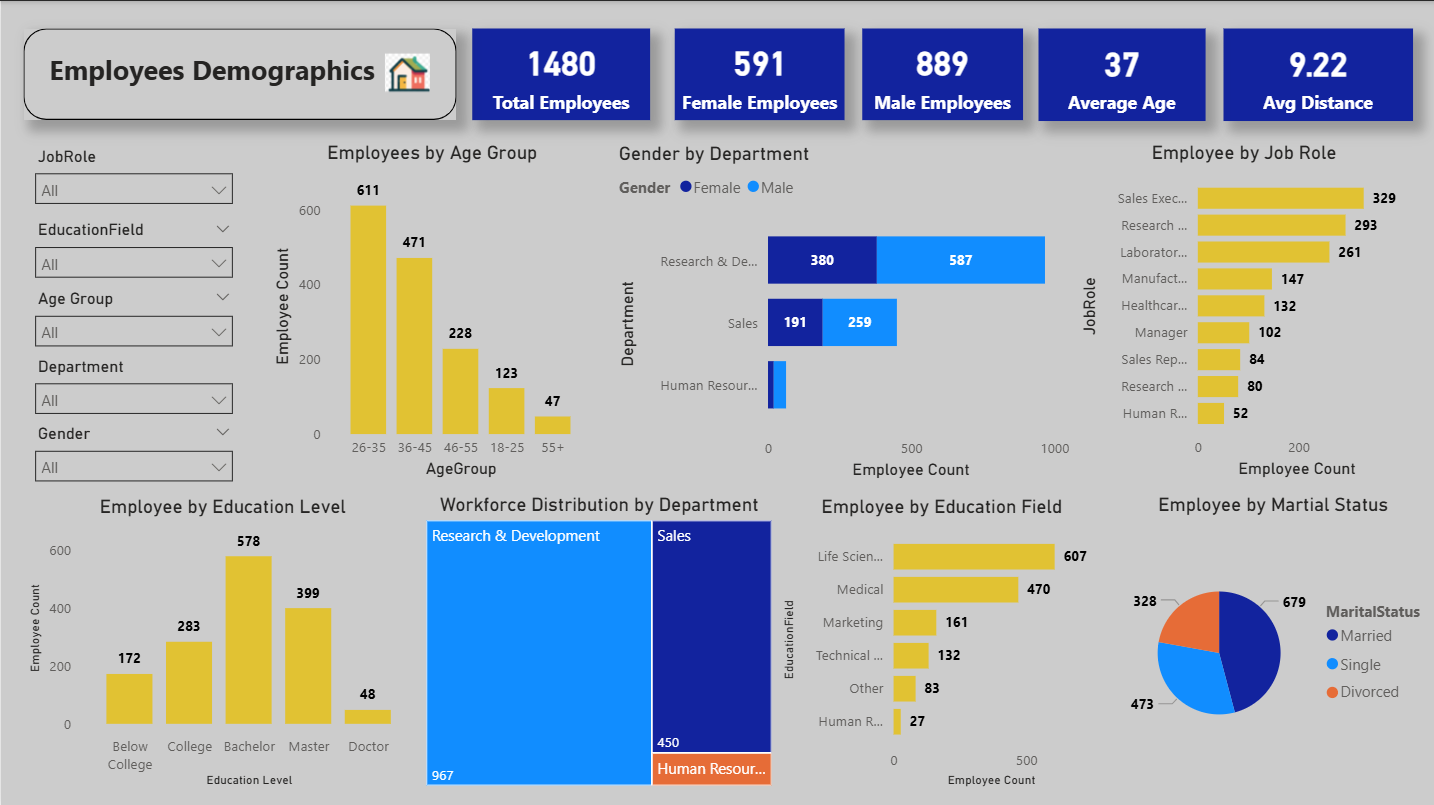

The page's visual inventory and layout, read from the dashboard file:
{"tool":"powerbi","page":{"name":"Employee Demographics","canvas":[1280,720],"ordinal":2},"visuals":[{"type":"card","fields":{"Values":["HR_Analytics.Female Employees"]},"box":[600,24.3,151.4,81.4],"z":0},{"type":"card","fields":{"Values":["HR_Analytics.Male Employees"]},"box":[767.1,24.3,142.9,81.4],"z":1000},{"type":"card","fields":{"Values":["HR_Analytics.Avg Distance From Home"]},"box":[1088.9,24.4,168.9,82.2],"z":2000},{"type":"card","fields":{"Values":["HR_Analytics.Total Employees"]},"box":[420,24.3,158.6,81.4],"z":3000},{"type":"clusteredColumnChart","title":"Employees by Age Group","fields":{"Category":["HR_Analytics.AgeGroup"],"Y":["HR_Analytics.Employee Count"]},"box":[238.3,125,291.7,305],"z":4000},{"type":"pieChart","title":"Employee by Martial Status","fields":{"Category":["HR_Analytics.MaritalStatus"],"Y":["HR_Analytics.Employee Count"]},"box":[984.8,439.1,295.7,265.2],"z":5000},{"type":"slicer","fields":{"Values":["HR_Analytics.Department"]},"box":[20,311.7,196.7,68.3],"z":6000},{"type":"slicer","fields":{"Values":["HR_Analytics.Gender"]},"box":[20,371.7,196.7,58.3],"z":7000},{"type":"slicer","fields":{"Values":["HR_Analytics.Age Group"]},"box":[20,251.7,196.7,60],"z":8000},{"type":"slicer","fields":{"Values":["HR_Analytics.EducationField"]},"box":[20,190,196.7,61.7],"z":9000},{"type":"slicer","fields":{"Values":["HR_Analytics.JobRole"]},"box":[20,125,196.7,65],"z":10000},{"type":"shape","box":[20,24.3,385.7,81.4],"z":11000},{"type":"textbox","box":[36.2,40,302.5,46.2],"z":12000},{"type":"card","fields":{"Values":["HR_Analytics.Female Employees"]},"box":[1318.3,23.3,211.7,81.7],"z":13000},{"type":"card","fields":{"Values":["HR_Analytics.Average Age"]},"box":[924.4,24.4,148.9,82.2],"z":14000},{"type":"clusteredBarChart","title":"Employee by Education Field","fields":{"Category":["HR_Analytics.EducationField"],"Y":["HR_Analytics.Employee Count"]},"box":[691.7,440,293.3,265],"z":15000},{"type":"treemap","title":"Workforce Distribution by Department","fields":{"Group":["HR_Analytics.Department"],"Values":["HR_Analytics.Employee Count"]},"box":[373.9,439.1,317.4,265.2],"z":16000},{"type":"barChart","title":"Gender by Department","fields":{"Category":["HR_Analytics.Department"],"Series":["HR_Analytics.Gender"],"Y":["HR_Analytics.Employee Count"]},"box":[545.7,126.1,410.9,304.3],"z":17000},{"type":"clusteredBarChart","title":"Employee by Job Role","fields":{"Category":["HR_Analytics.JobRole"],"Y":["HR_Analytics.Employee Count"]},"box":[956.7,125,301.7,305],"z":18000},{"type":"clusteredColumnChart","title":"Employee by Education Level","fields":{"Category":["HR_Analytics.Education Level"],"Y":["HR_Analytics.Employee Count"]},"box":[20,440,355,265],"z":19000},{"type":"actionButton","title":"🏠","box":[340,41.4,44.3,45.7],"z":20000}]}

Visuals, with their boxes in screenshot pixels (x1, y1, x2, y2), scaled from the page's 1280x720 canvas onto the 1434x805 screenshot:
card - HR_Analytics.Female Employees: pyautogui.locateOnScreen(672, 27, 842, 118)
card - HR_Analytics.Male Employees: pyautogui.locateOnScreen(859, 27, 1019, 118)
card - HR_Analytics.Avg Distance From Home: pyautogui.locateOnScreen(1220, 27, 1409, 119)
card - HR_Analytics.Total Employees: pyautogui.locateOnScreen(471, 27, 648, 118)
"Employees by Age Group" clusteredColumnChart: pyautogui.locateOnScreen(267, 140, 594, 481)
"Employee by Martial Status" pieChart: pyautogui.locateOnScreen(1103, 491, 1433, 787)
slicer - HR_Analytics.Department: pyautogui.locateOnScreen(22, 348, 243, 425)
slicer - HR_Analytics.Gender: pyautogui.locateOnScreen(22, 416, 243, 481)
slicer - HR_Analytics.Age Group: pyautogui.locateOnScreen(22, 281, 243, 348)
slicer - HR_Analytics.EducationField: pyautogui.locateOnScreen(22, 212, 243, 281)
slicer - HR_Analytics.JobRole: pyautogui.locateOnScreen(22, 140, 243, 212)
shape: pyautogui.locateOnScreen(22, 27, 455, 118)
textbox: pyautogui.locateOnScreen(41, 45, 379, 96)
card - HR_Analytics.Average Age: pyautogui.locateOnScreen(1036, 27, 1202, 119)
"Employee by Education Field" clusteredBarChart: pyautogui.locateOnScreen(775, 492, 1104, 788)
"Workforce Distribution by Department" treemap: pyautogui.locateOnScreen(419, 491, 774, 787)
"Gender by Department" barChart: pyautogui.locateOnScreen(611, 141, 1072, 481)
"Employee by Job Role" clusteredBarChart: pyautogui.locateOnScreen(1072, 140, 1410, 481)
"Employee by Education Level" clusteredColumnChart: pyautogui.locateOnScreen(22, 492, 420, 788)
"🏠" actionButton: pyautogui.locateOnScreen(381, 46, 431, 97)
